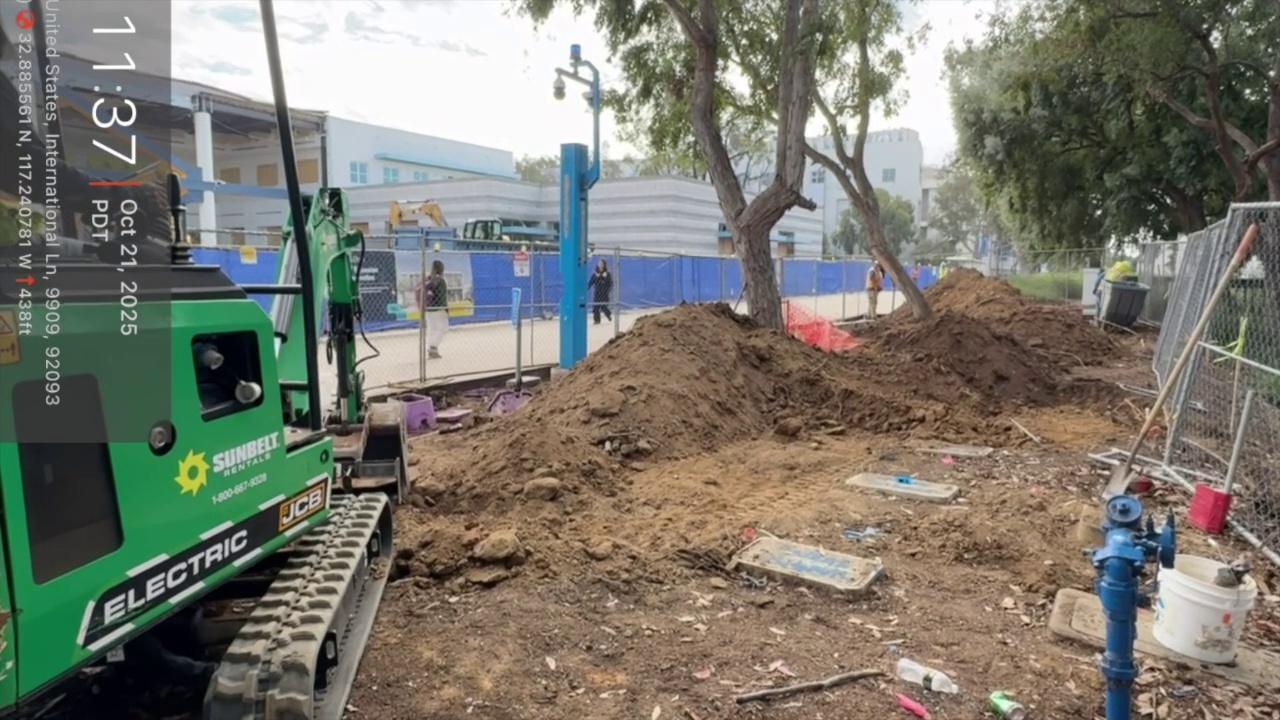Exacavator: (0, 183, 537, 720)
